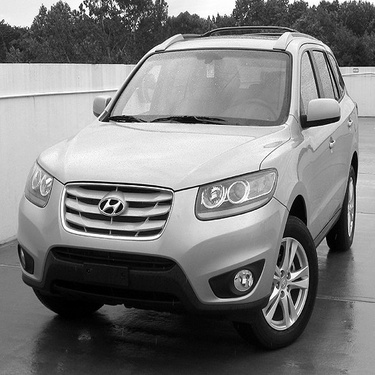car: (12, 22, 363, 351)
